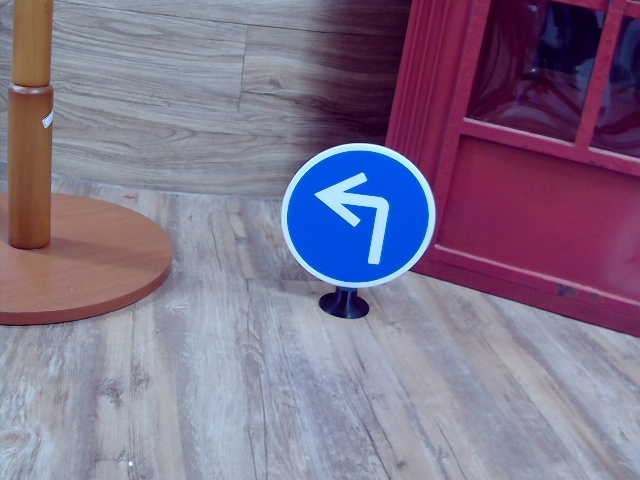turn_left: (310, 167, 398, 269)
